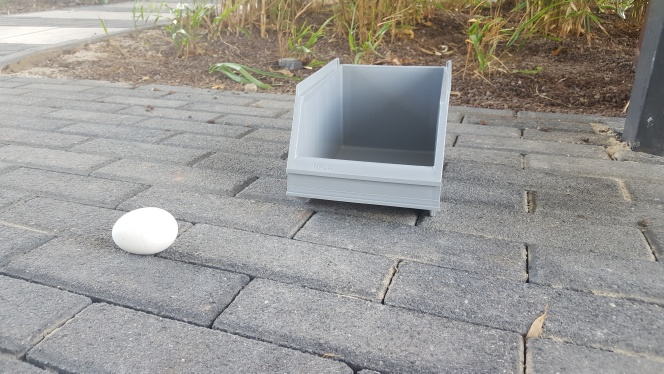egg: (112, 206, 178, 258)
tray_front: (284, 81, 448, 219)
